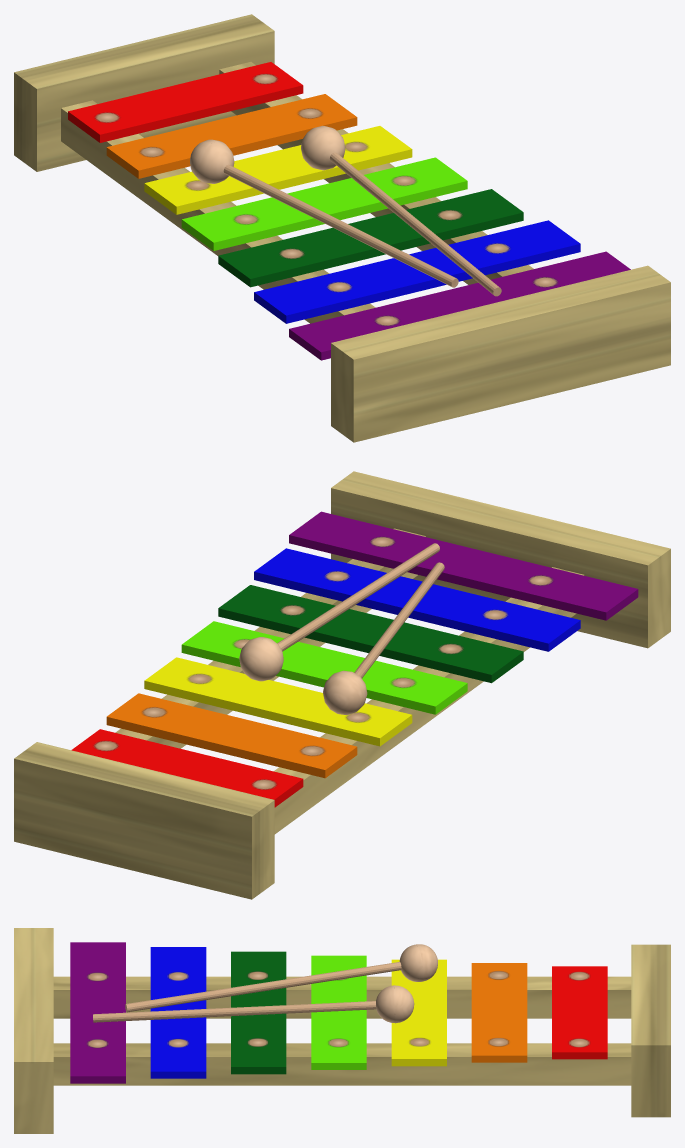
The model's file is xylophone.glb.
3 renders of one model, top to bottom at view 1: azimuth 30°, elevation 25°; view 2: azimuth 150°, elevation 25°; view 3: azimuth 270°, elevation 25°, orthographic. The views are drawn at different scales.
Parts seen in each view (by area): view 1: xylophone4; view 2: xylophone4; view 3: xylophone4.
Boxes of the visible parts, x1,y1,x2,y2 form: xylophone4: [14, 14, 670, 442]; xylophone4: [14, 471, 670, 899]; xylophone4: [14, 928, 670, 1133].
Size of the model in its own units: 40 by 12.91 by 82.86.
Materials: 1 (1 with a texture image).
